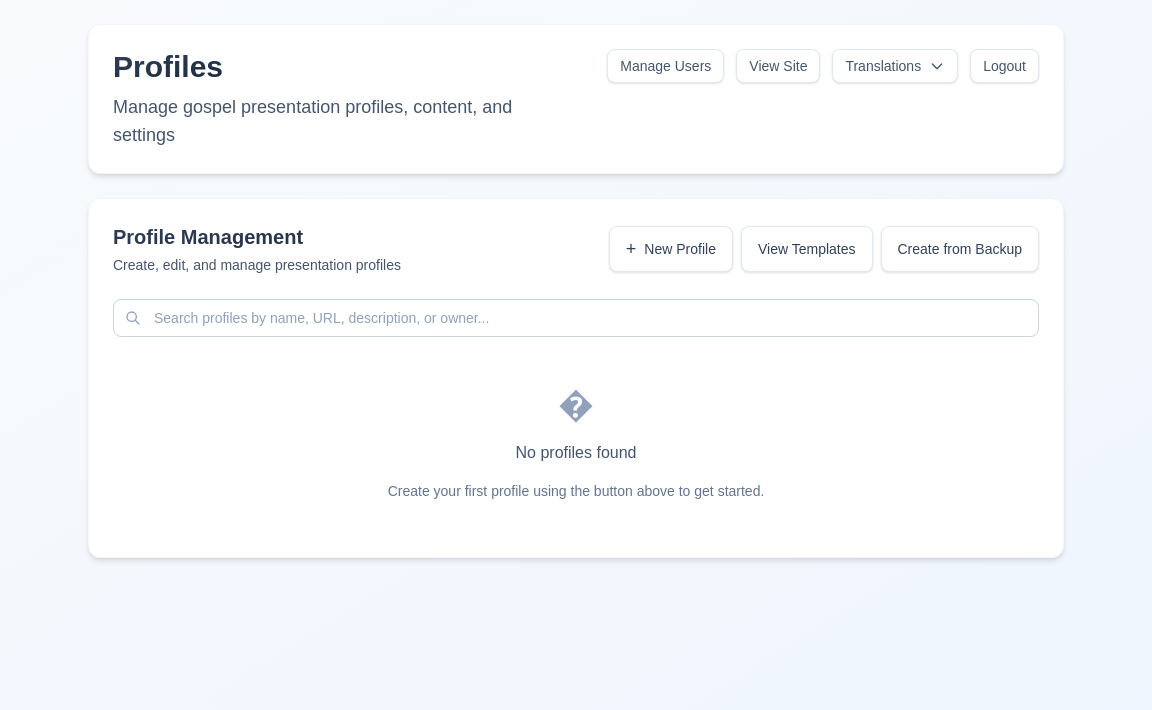
Test case: AdminPageContent - additional internals › shows duplicate-slug error when create API returns duplicate error
This screenshot has width=1152, height=710.
# Open create form, fill and submit to trigger POST
Click the button "+ New Profile" at {"x": 671, "y": 249}, box [609, 226, 733, 272]
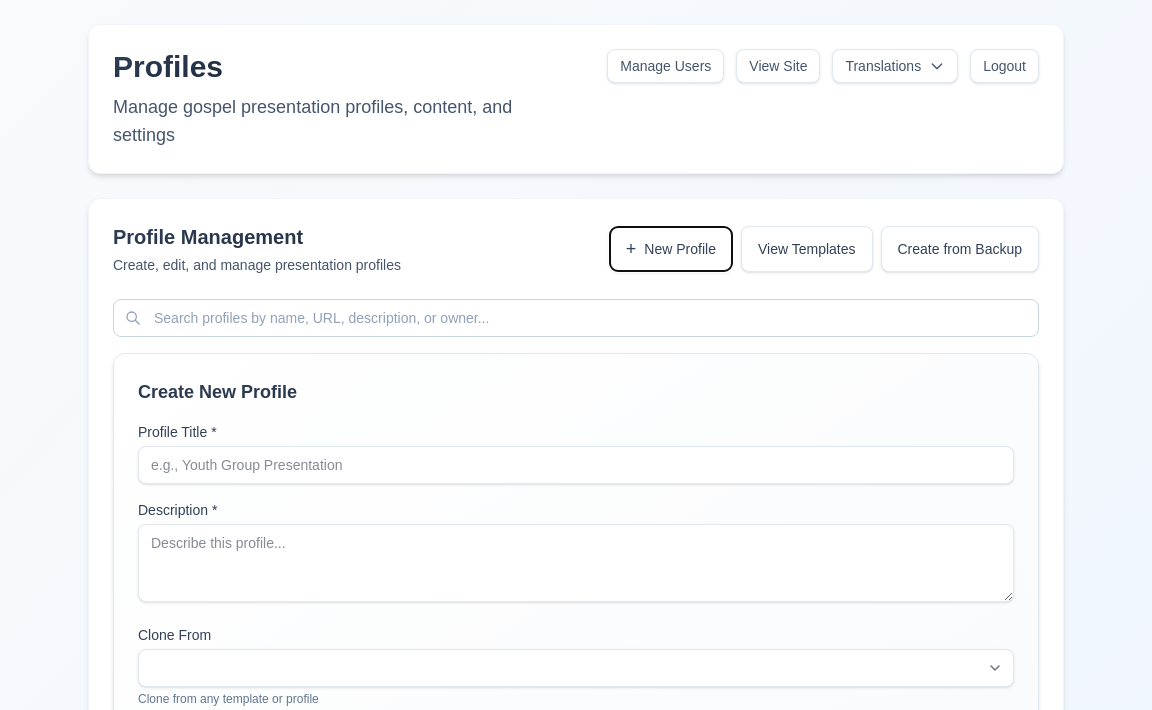
Type "Duplicate Title" into the field labelled "Profile Title *" at {"x": 576, "y": 465}, box [138, 446, 1014, 484]
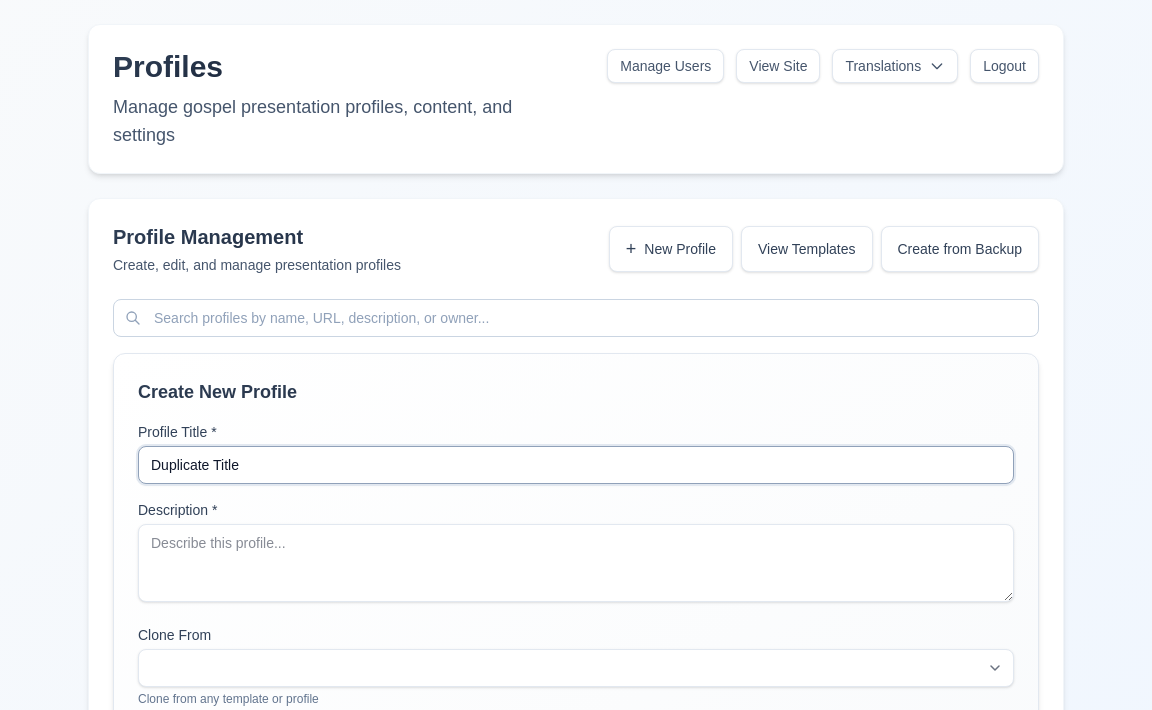
Type "desc" into the text box labelled "Description *" at {"x": 576, "y": 563}, box [138, 524, 1014, 602]
(page scrolled)
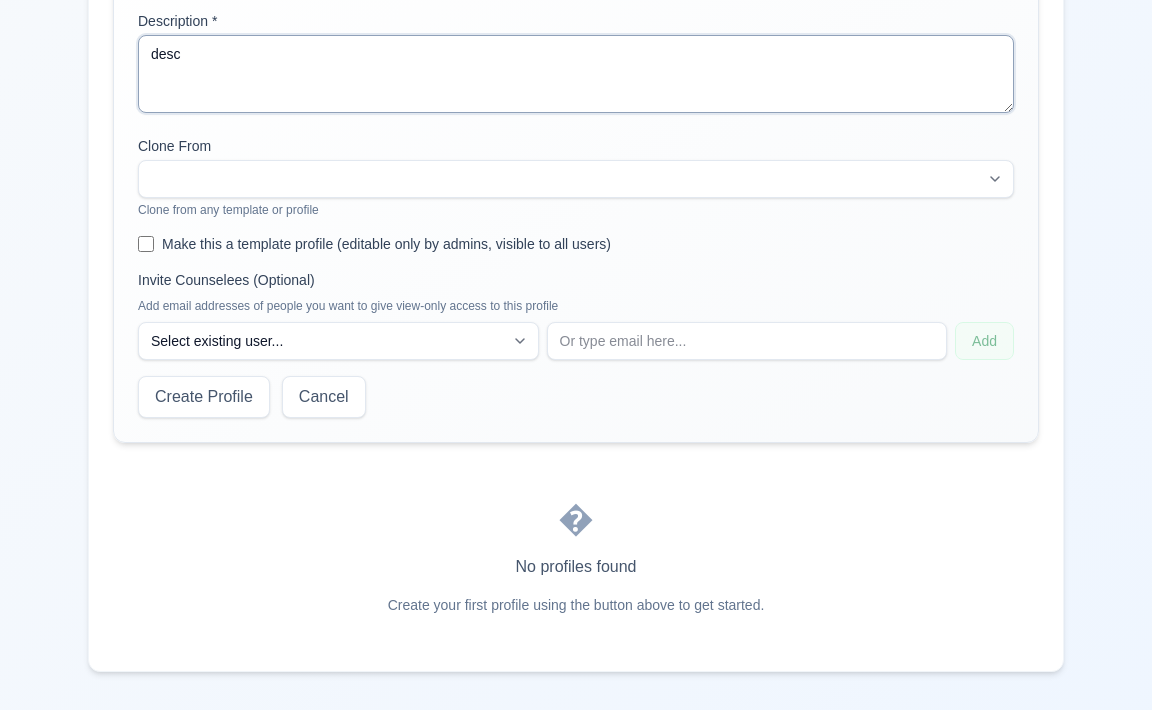
Click the button "Create Profile" at {"x": 204, "y": 397}, box [138, 376, 270, 418]
(page scrolled)
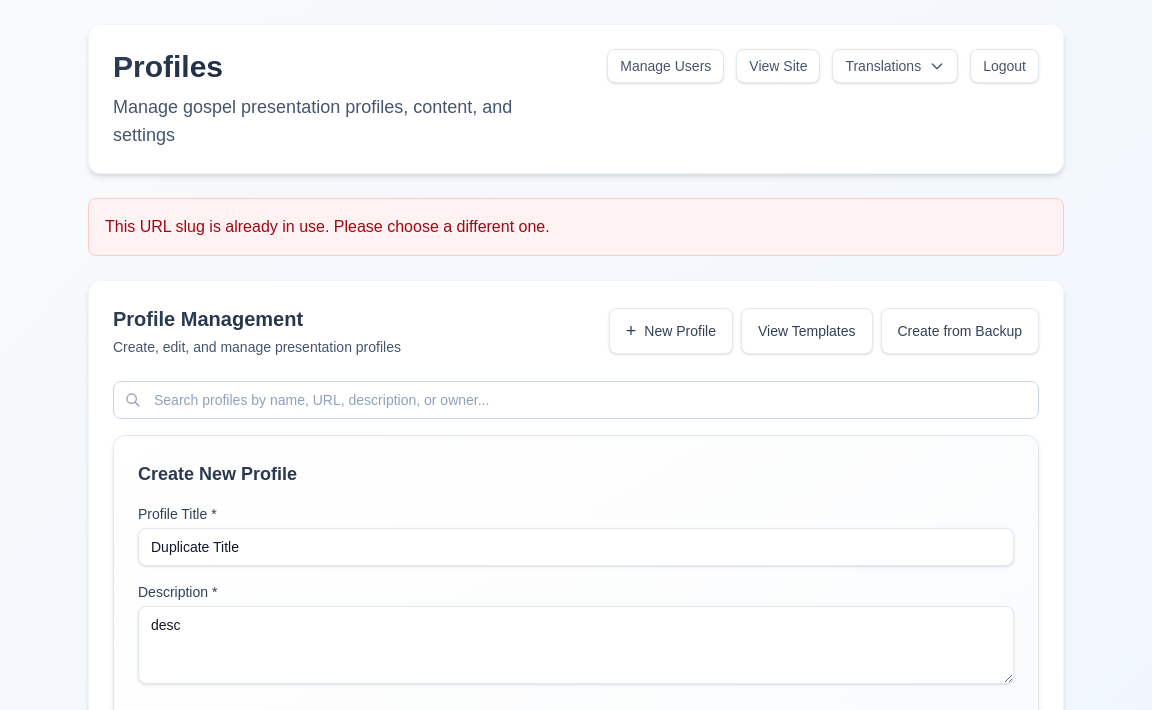
Result: the text "already in use" is shown at [105, 218, 550, 235]
